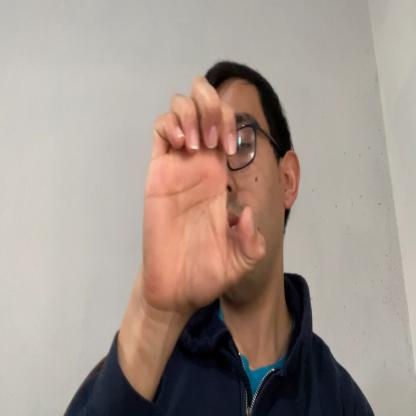E: (142, 77, 266, 310)
